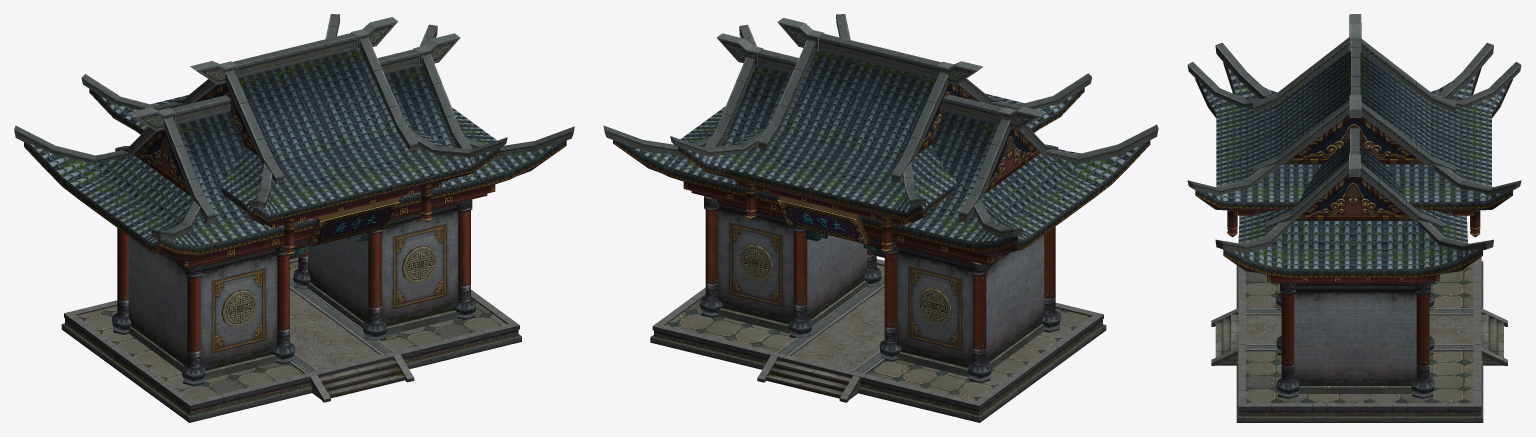
Rendered from HYC_jianzhu_02.FBX.
The picture shows the model from 3 angles, left to right: view 1: azimuth 30°, elevation 25°; view 2: azimuth 150°, elevation 25°; view 3: azimuth 270°, elevation 25°; orthographic projection. The views are drawn at different scales.
Visible parts, largest first — view 1: HYC_jianzhu_02_01, HYC_jianzhu_02_02; view 2: HYC_jianzhu_02_01, HYC_jianzhu_02_02; view 3: HYC_jianzhu_02_01, HYC_jianzhu_02_02.
Boxes of the visible parts, <box> form: HYC_jianzhu_02_01: <box>14,14,574,422</box>; HYC_jianzhu_02_02: <box>77,262,506,400</box>; HYC_jianzhu_02_01: <box>603,14,1158,422</box>; HYC_jianzhu_02_02: <box>665,264,1090,400</box>; HYC_jianzhu_02_01: <box>1187,14,1521,422</box>; HYC_jianzhu_02_02: <box>1215,262,1503,403</box>.
Size of the model in its own units: 2050 by 1357 by 1452.
